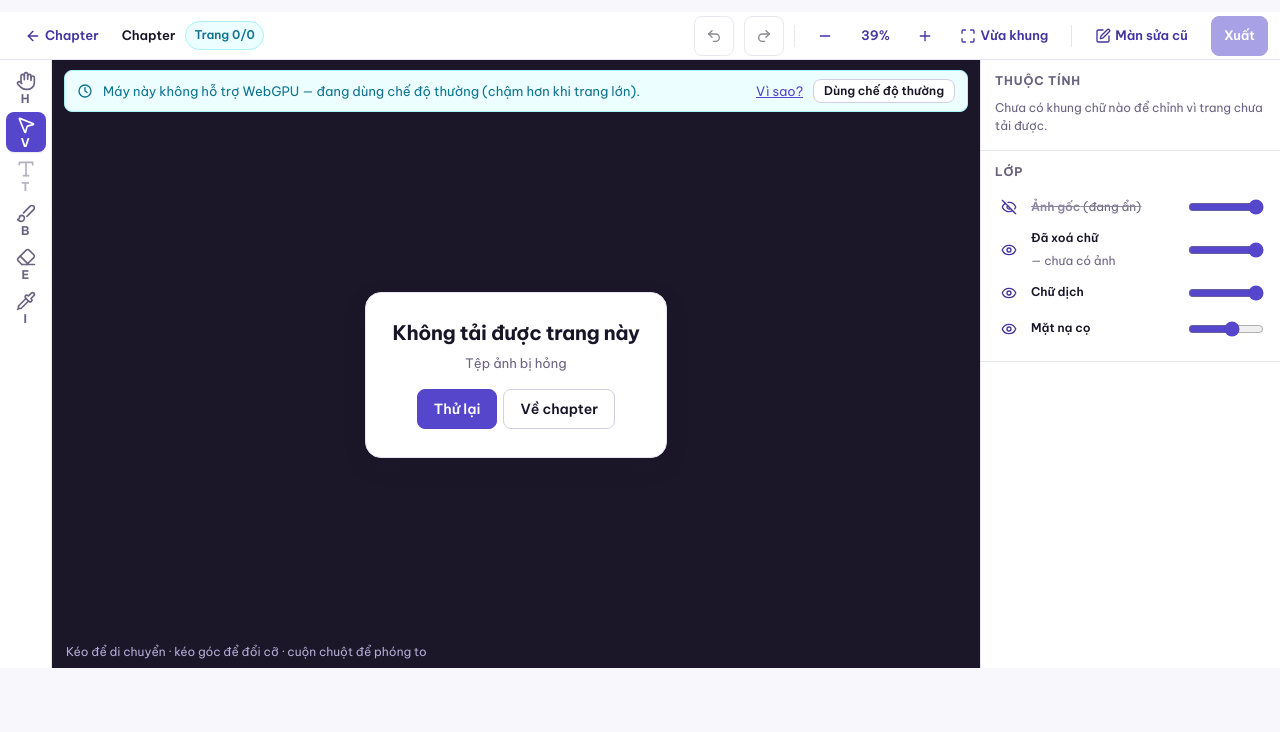
Test: trạng thái › không tải được trang ⇒ hiện lỗi + Thử lại tải lại thật
The width and height of the screenshot is (1280, 732).
Expected: the heading "Không tải được trang này" is shown, [392,321,640,345]
Expected: the text "Tệp ảnh bị hỏng" is shown, [465,355,567,371]
Click the button "Thử lại" at (457, 409), box [417,389,497,429]
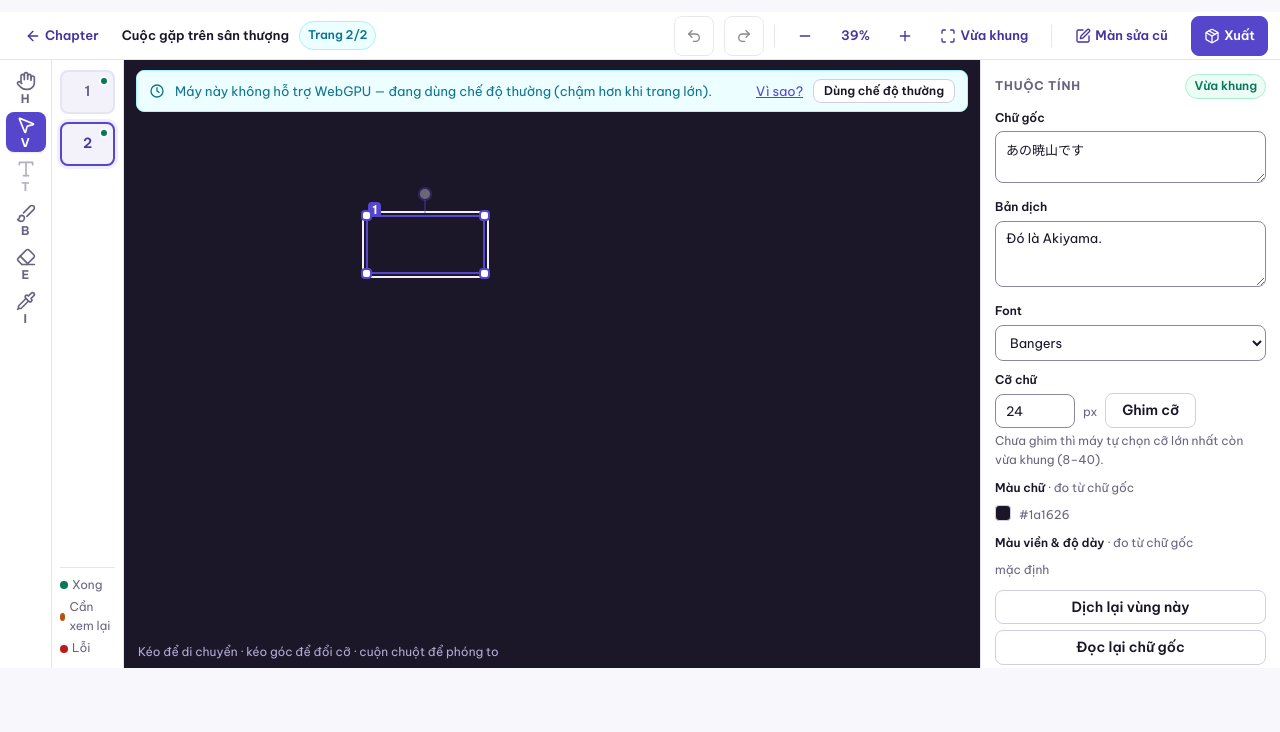
Expected: the button named "Khung chữ 1" is shown, [366,215,485,274]
